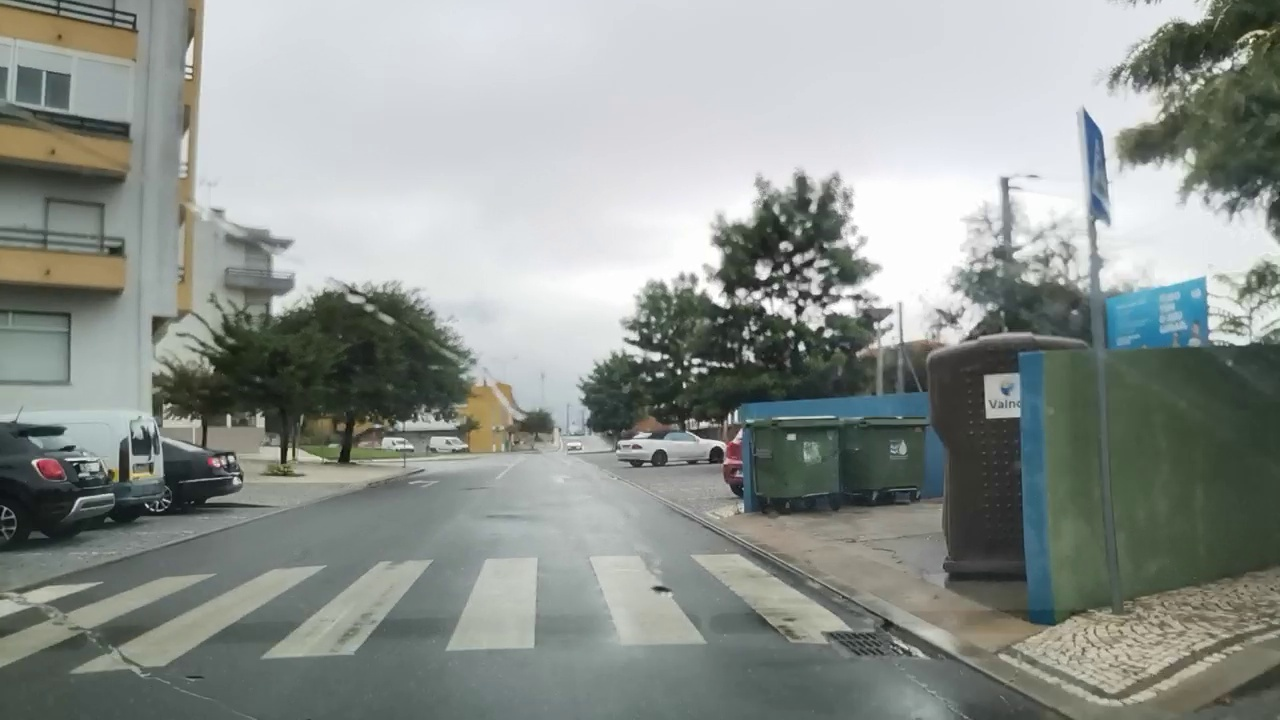Stairs: (0, 553, 863, 669)
